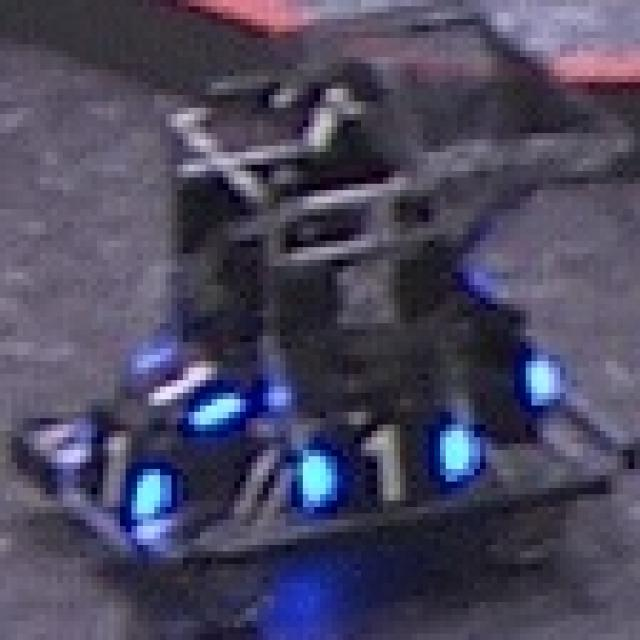B1: (292, 412, 474, 507)
